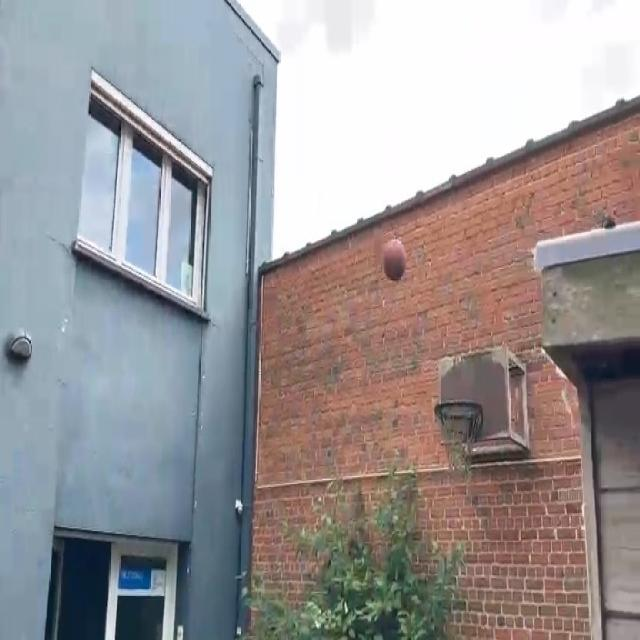Basketball: (381, 241, 406, 282)
